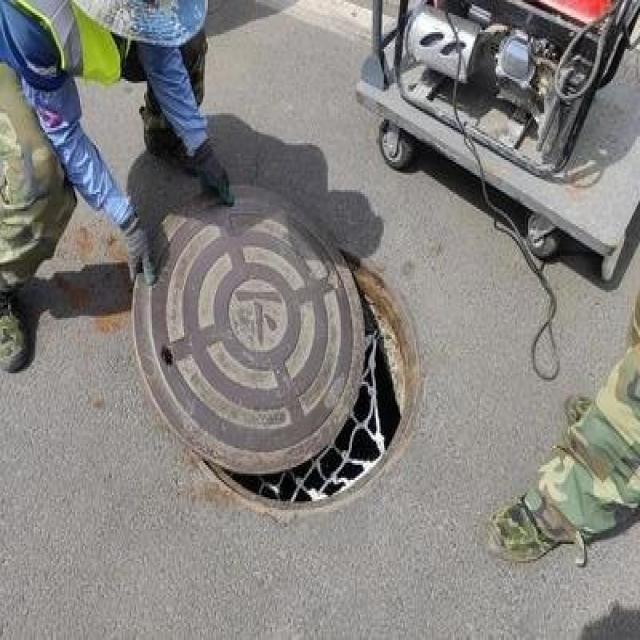manhole: (132, 201, 414, 514)
